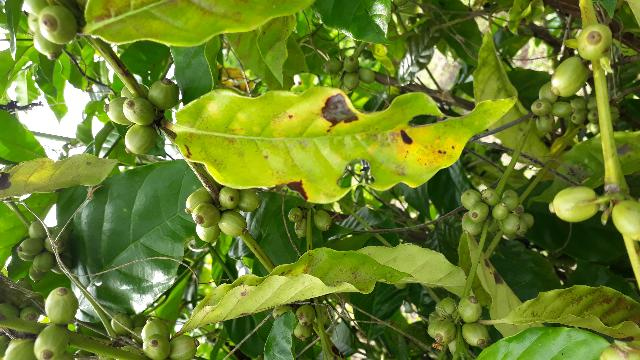rust_level_2: (177, 84, 509, 202)
